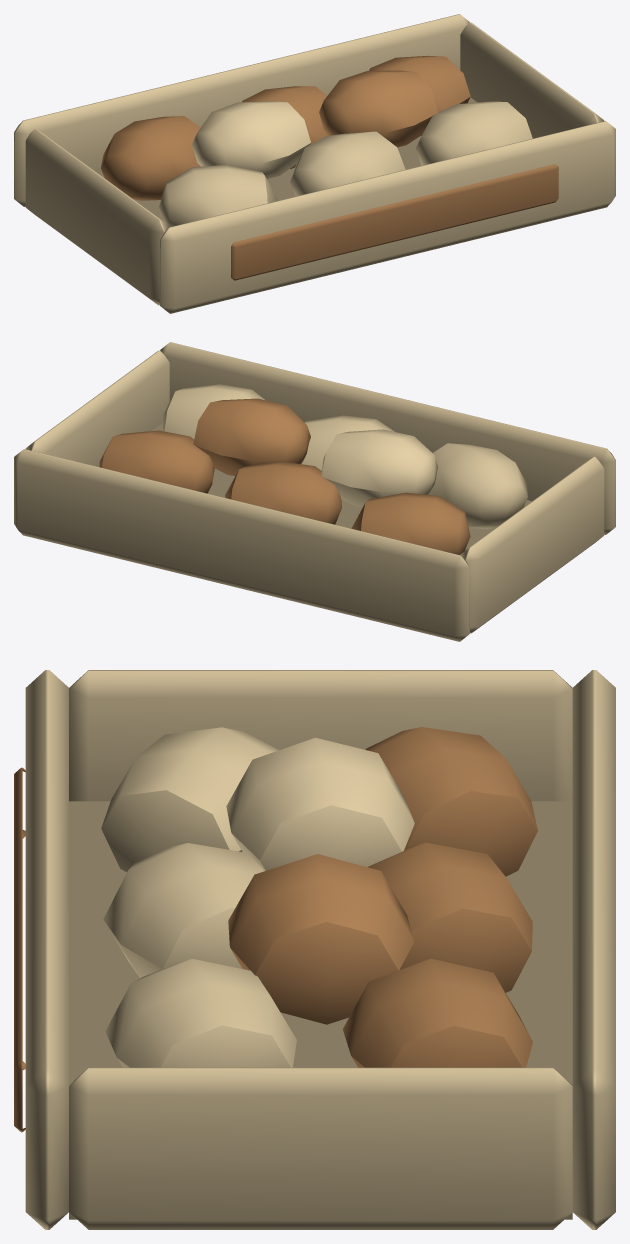
Rendered from ProduceTray_Potatoes_01.glb.
3 views of the same model, one above another, from view 1: azimuth 30°, elevation 25°; view 2: azimuth 150°, elevation 25°; view 3: azimuth 270°, elevation 25° (orthographic). The views are drawn at different scales.
Parts seen in each view (by area): view 1: SM_ProduceTray_Potatoes_01; view 2: SM_ProduceTray_Potatoes_01; view 3: SM_ProduceTray_Potatoes_01.
Part boxes in pixels (box(x1,y1,x2,y2)): SM_ProduceTray_Potatoes_01: box(14, 14, 615, 313); SM_ProduceTray_Potatoes_01: box(14, 342, 615, 641); SM_ProduceTray_Potatoes_01: box(14, 670, 615, 1229).
Size of the model in its own units: 0.5 by 0.1219 by 0.306.
Materials: 1 (1 with a texture image).
